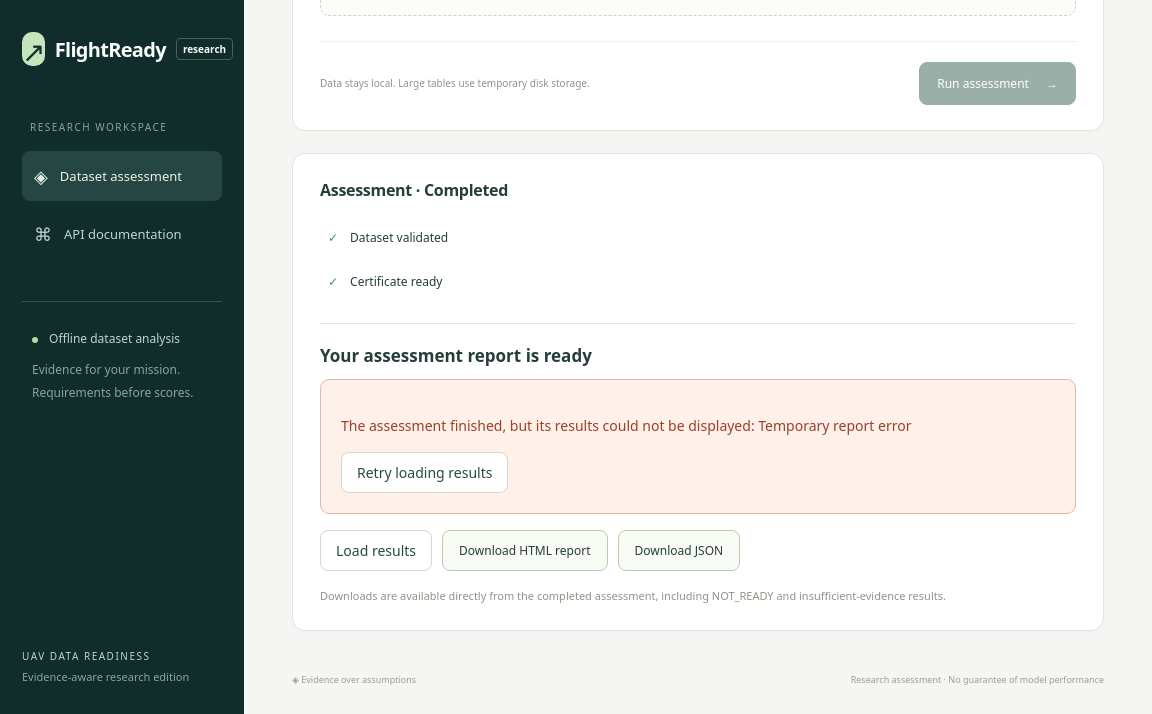
it: completed assessment reports › keeps downloads visible on certificate failure and supports retry
(page scrolled)
expect the text "Temporary report error" is shown: met, box [758,416,912,435]
expect the link "Download HTML report" is shown: met, box [442,530,608,571]
Step 1. Click the button "Retry loading results" → (425, 472), box [341,452,508,493]
(page scrolled)
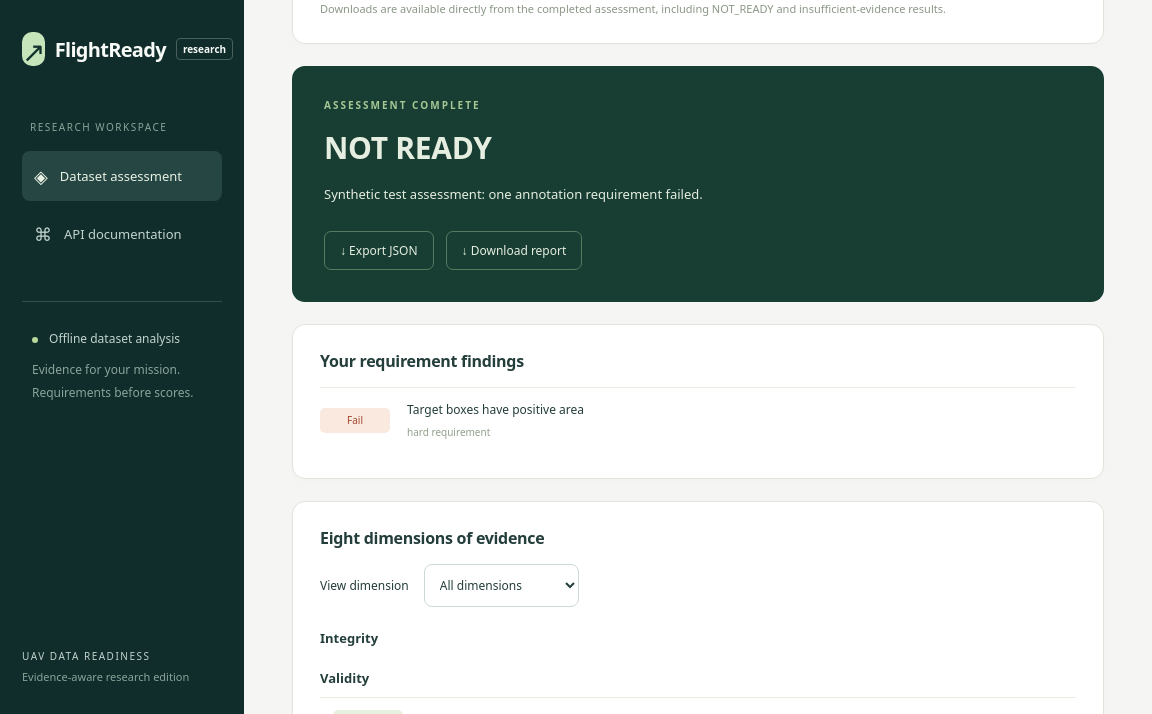
expect the heading "Your requirement findings" is shown: met, box [320,350,524,372]
expect the text "Temporary report error" is gone: met
